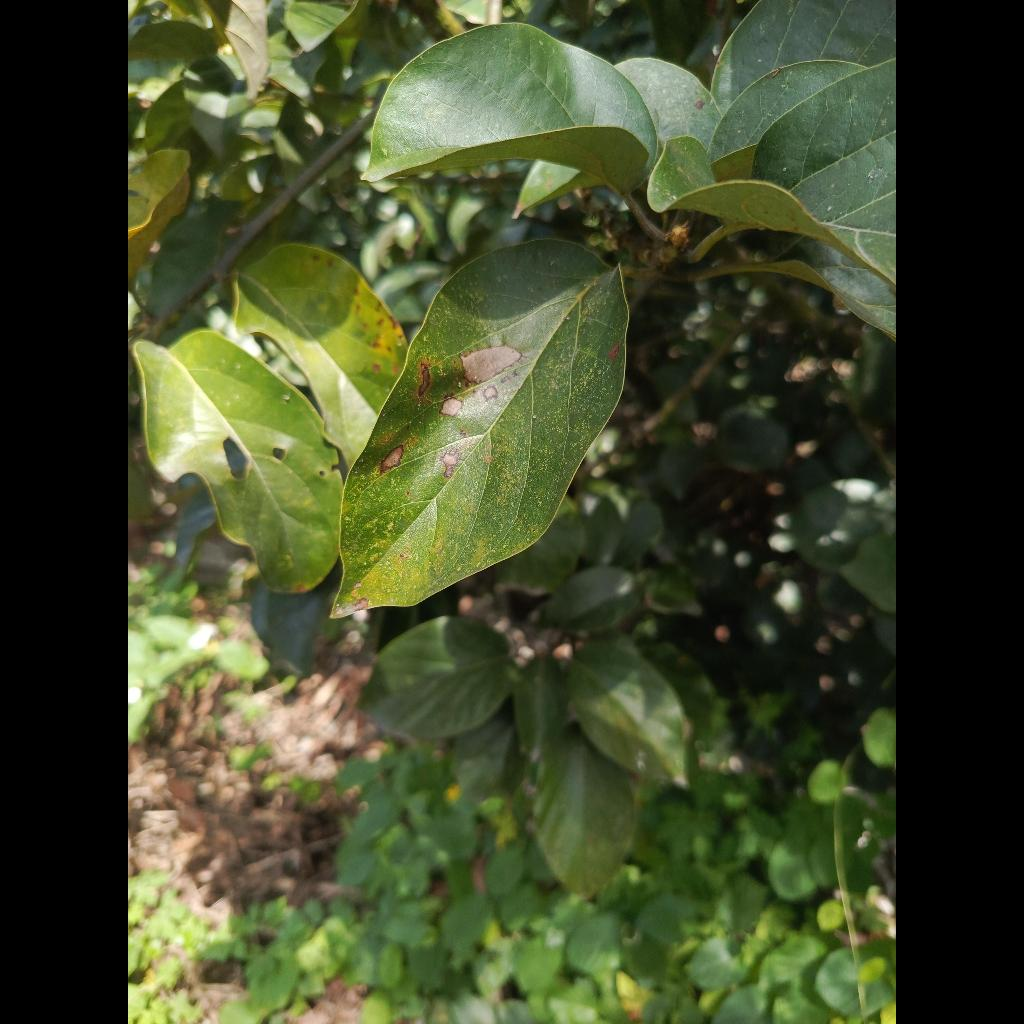Anthracnose: (333, 240, 627, 615)
